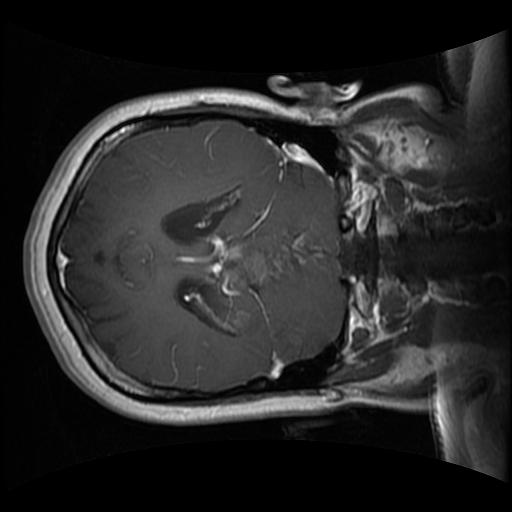glioma: (201, 229, 327, 299)
